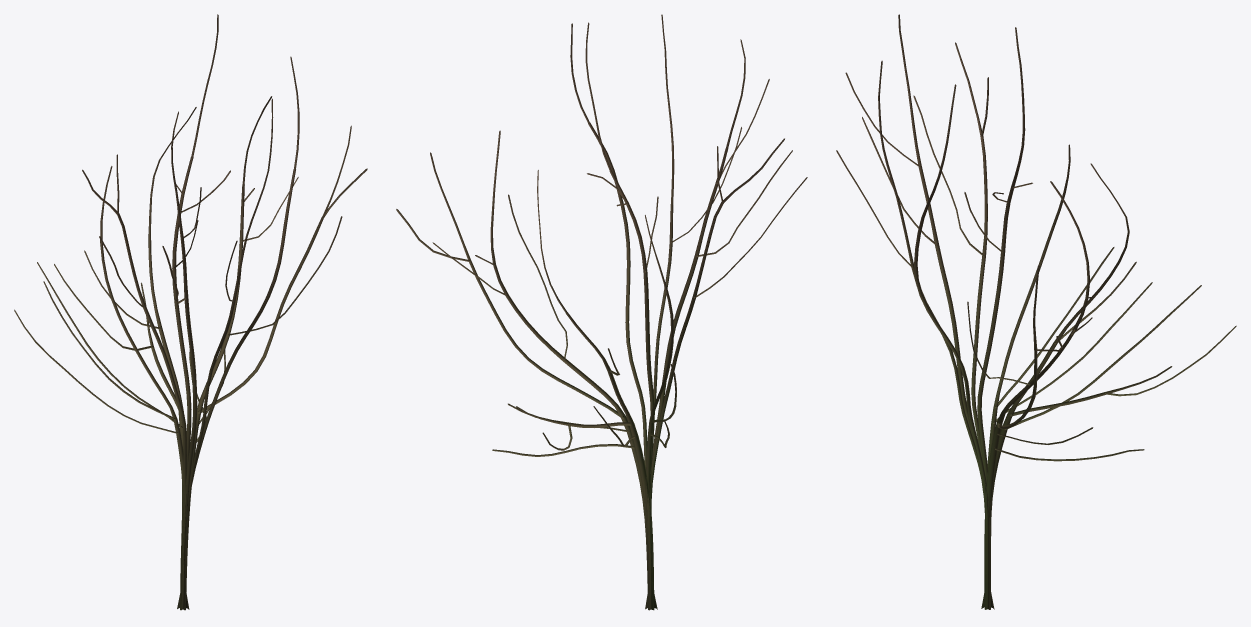
The model's file is SM_Tree_hazel_0_bare.glb.
3 views of the same model, side by side, from view 1: azimuth 30°, elevation 25°; view 2: azimuth 150°, elevation 25°; view 3: azimuth 270°, elevation 25° (orthographic). The views are drawn at different scales.
Parts seen in each view (by area): view 1: SM_Tree_hazel_0_bare; view 2: SM_Tree_hazel_0_bare; view 3: SM_Tree_hazel_0_bare.
Boxes of the visible parts, left/top/right/bottom form: SM_Tree_hazel_0_bare: left=14, top=14, right=367, bottom=610; SM_Tree_hazel_0_bare: left=396, top=14, right=807, bottom=610; SM_Tree_hazel_0_bare: left=836, top=14, right=1236, bottom=609.
Bounding box in the file's own units: 3.56 × 5.82 × 3.48.
